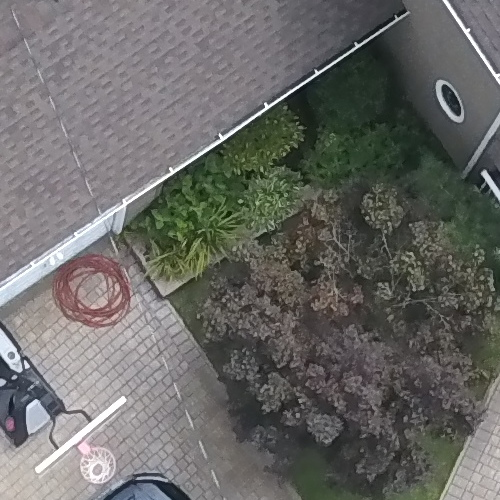basketball: (1, 320, 149, 495)
